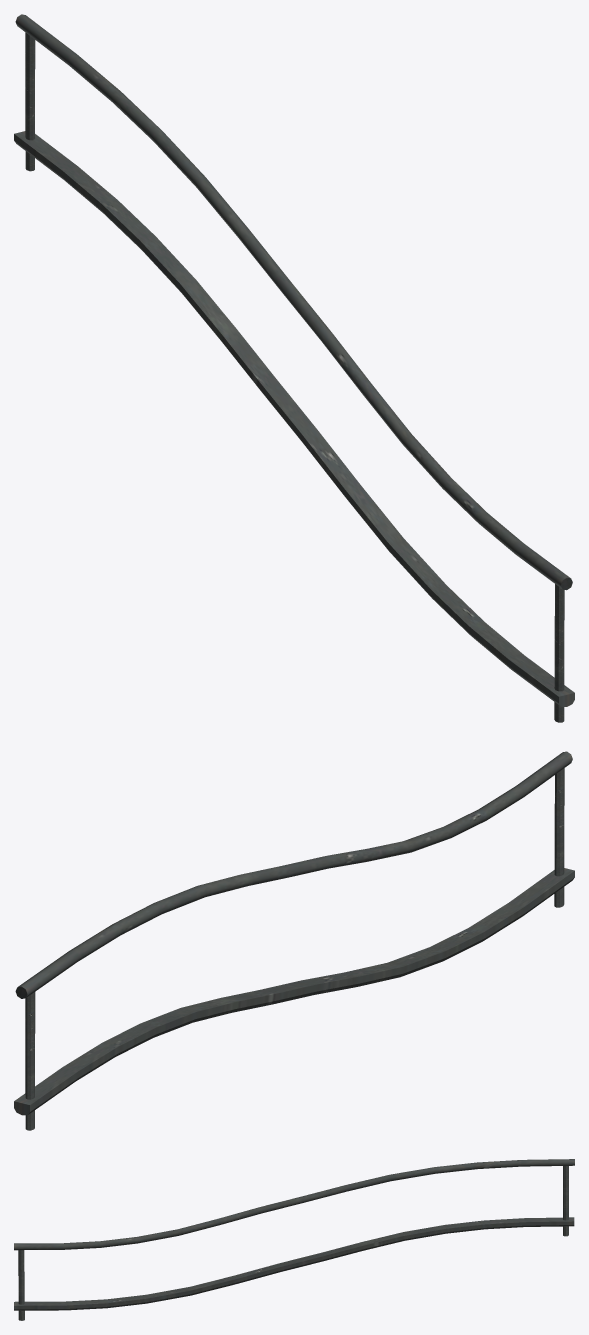
Rendered from Neon_SrvWalkRamp_Rail.FBX.
3 renders of one model, top to bottom at view 1: azimuth 30°, elevation 25°; view 2: azimuth 150°, elevation 25°; view 3: azimuth 270°, elevation 25°, orthographic. The views are drawn at different scales.
Visible parts, largest first — view 1: Neon_SrvWalkRamp_Rail; view 2: Neon_SrvWalkRamp_Rail; view 3: Neon_SrvWalkRamp_Rail.
Boxes of the visible parts, left/top/right/bottom form: Neon_SrvWalkRamp_Rail: left=14, top=14, right=574, bottom=722; Neon_SrvWalkRamp_Rail: left=14, top=751, right=574, bottom=1130; Neon_SrvWalkRamp_Rail: left=14, top=1159, right=574, bottom=1320.
Bounding box in the file's own units: 0.1025 × 1.9 × 6.
